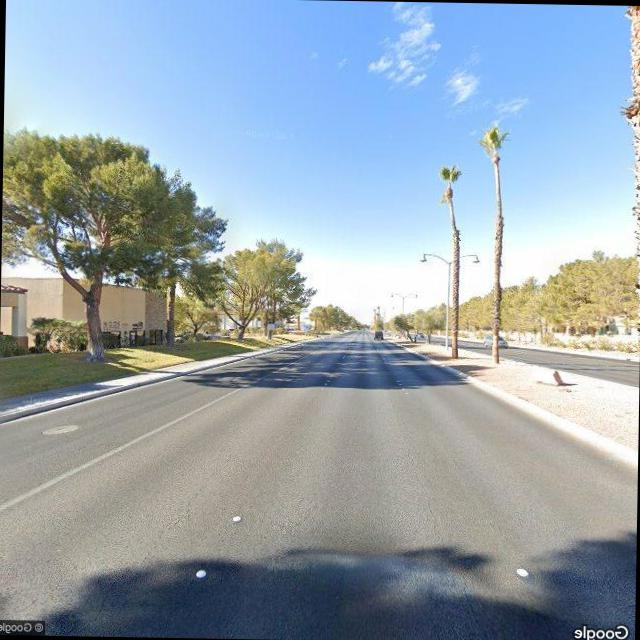crack: (401, 434, 451, 548)
